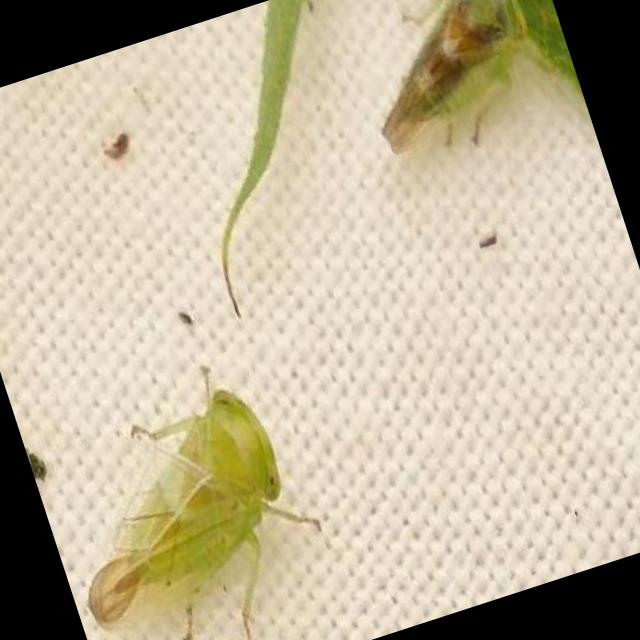green-leafhopper: (32, 343, 347, 640), (339, 0, 561, 177)
